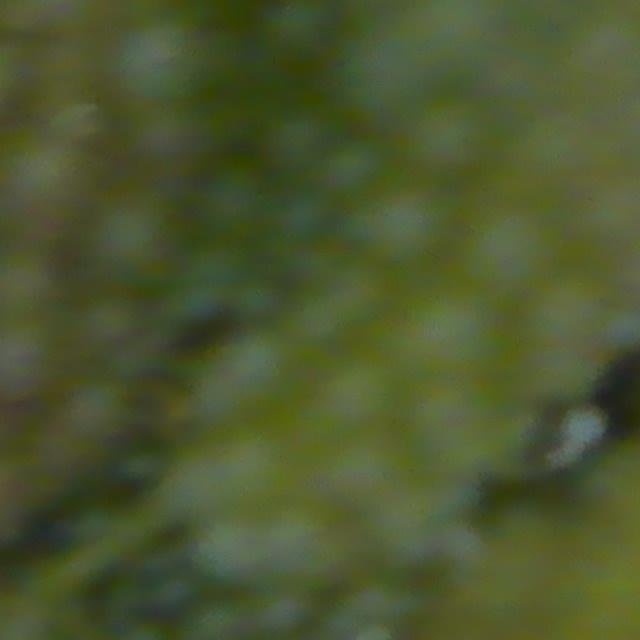SeaGrape: (387, 293, 501, 402), (108, 1, 214, 108), (83, 186, 180, 295), (0, 128, 96, 225), (358, 177, 457, 269), (401, 91, 490, 188), (214, 327, 304, 418), (205, 430, 298, 515), (316, 359, 397, 443), (125, 97, 211, 175), (196, 158, 275, 241), (329, 441, 408, 523), (0, 308, 66, 404), (470, 214, 548, 290), (191, 513, 267, 584), (259, 103, 333, 174), (318, 133, 387, 201), (261, 0, 336, 62), (0, 237, 55, 321), (268, 186, 335, 250), (252, 584, 316, 640), (186, 593, 254, 640)
